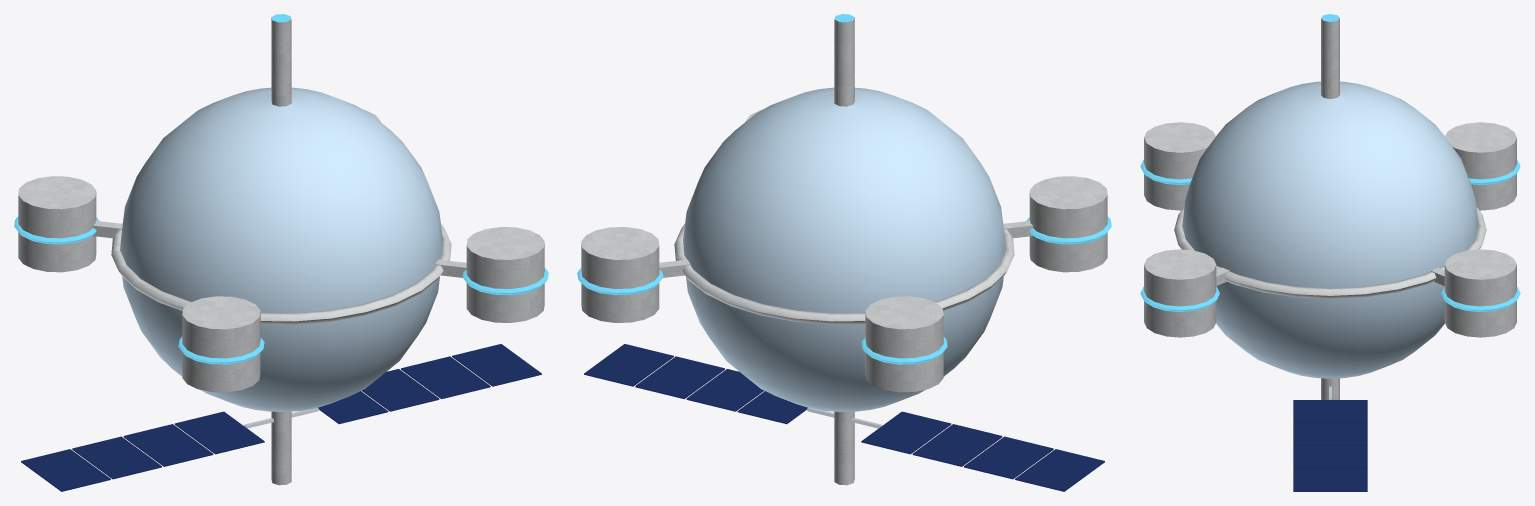
Rendered from orbital_garden_station.glb.
The picture shows the model from 3 angles, left to right: view 1: azimuth 30°, elevation 25°; view 2: azimuth 150°, elevation 25°; view 3: azimuth 270°, elevation 25°; orthographic projection. The views are drawn at different scales.
Visible parts, largest first — view 1: orbital_garden_station_LOD0; view 2: orbital_garden_station_LOD0; view 3: orbital_garden_station_LOD0.
Part boxes in pixels (x1,y1,x2,y2): orbital_garden_station_LOD0: (14, 14, 548, 491); orbital_garden_station_LOD0: (577, 14, 1111, 491); orbital_garden_station_LOD0: (1140, 14, 1520, 491).
Size of what is drawn, in the model's own units: 47.8 by 44 by 35.78.
4 materials, 3 textured.
